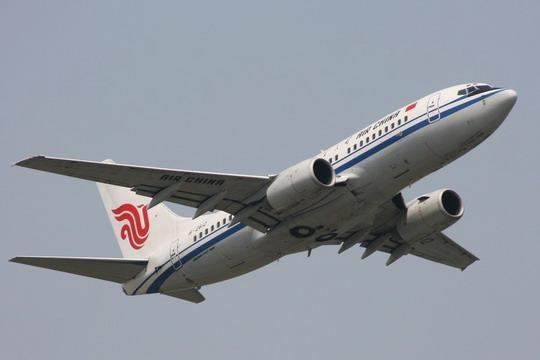airplane: (6, 83, 522, 317)
